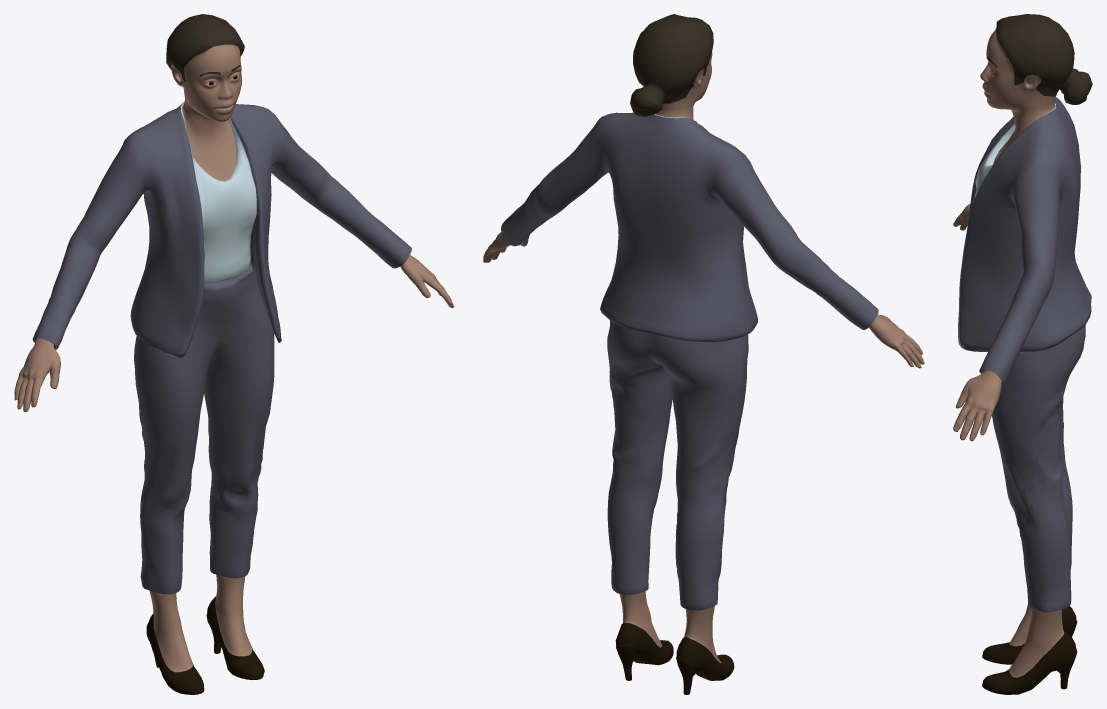
File: BackgroundFemale.fbx
The picture shows the model from 3 angles, left to right: view 1: azimuth 30°, elevation 25°; view 2: azimuth 150°, elevation 25°; view 3: azimuth 270°, elevation 25°; orthographic projection.
Parts seen in each view (by area): view 1: Shirt, Pants, Cranio_Bigger, L_Foot, R_Foot, R_Hand, L_Hand; view 2: Shirt, Pants, Cranio_Bigger, L_Foot, R_Foot, R_Hand; view 3: Shirt, Pants, Cranio_Bigger, L_Foot, L_Hand, R_Foot, R_Hand.
Part boxes in pixels (left/top/right/bottom): Shirt: left=32, top=100, right=411, bottom=357; Pants: left=134, top=266, right=274, bottom=594; Cranio_Bigger: left=166, top=14, right=244, bottom=180; L_Foot: left=206, top=574, right=264, bottom=679; R_Foot: left=146, top=590, right=204, bottom=694; R_Hand: left=14, top=338, right=60, bottom=412; L_Hand: left=400, top=255, right=454, bottom=307; Shirt: left=501, top=112, right=878, bottom=341; Pants: left=607, top=320, right=748, bottom=610; Cranio_Bigger: left=630, top=14, right=713, bottom=119; L_Foot: left=615, top=591, right=673, bottom=680; R_Foot: left=676, top=606, right=734, bottom=694; R_Hand: left=869, top=314, right=924, bottom=368; Shirt: left=958, top=97, right=1091, bottom=382; Pants: left=992, top=325, right=1085, bottom=612; Cranio_Bigger: left=980, top=14, right=1092, bottom=163; L_Foot: left=982, top=608, right=1077, bottom=694; L_Hand: left=953, top=370, right=1002, bottom=441; R_Foot: left=982, top=603, right=1077, bottom=664; R_Hand: left=953, top=204, right=970, bottom=230.
Size of the model in its own units: 4 by 5.76 by 1.11.
